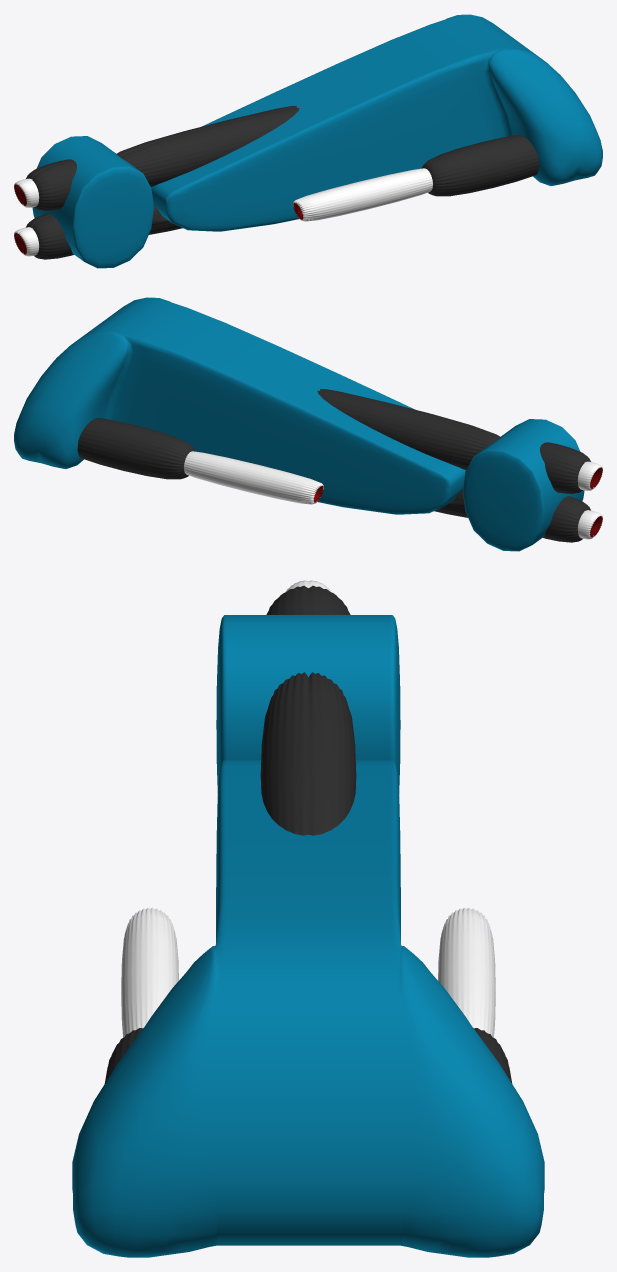
Rendered from gattling1.dae.
The picture shows the model from 3 angles, top to bottom: view 1: azimuth 30°, elevation 25°; view 2: azimuth 150°, elevation 25°; view 3: azimuth 270°, elevation 25°; orthographic projection. The views are drawn at different scales.
Visible parts, largest first — view 1: Cube; view 2: Cube; view 3: Cube.
Part boxes in pixels (bbox=[...]): Cube: bbox=[14, 14, 602, 268]; Cube: bbox=[14, 297, 602, 551]; Cube: bbox=[72, 580, 544, 1257].
Size of the model in its own units: 3.08 by 1.18 by 0.6907.
